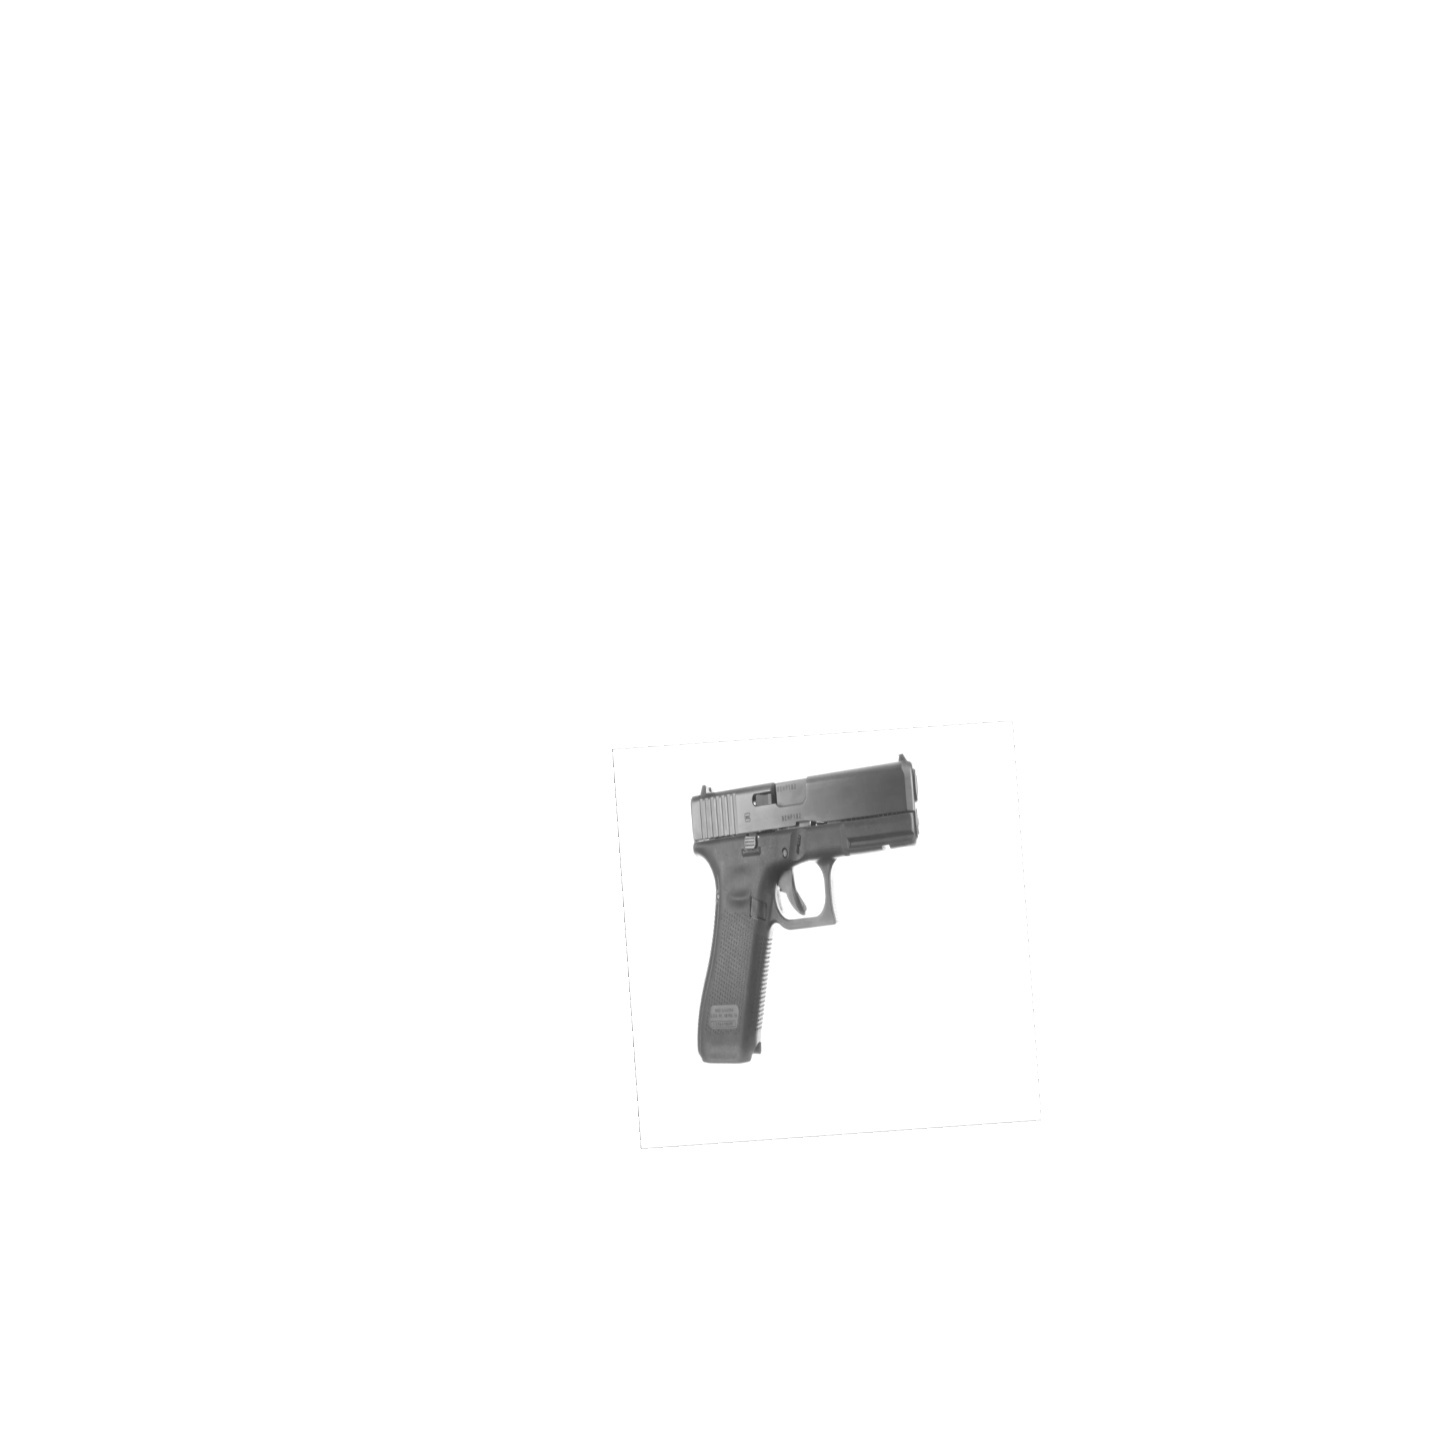gun: (687, 753, 927, 1064)
